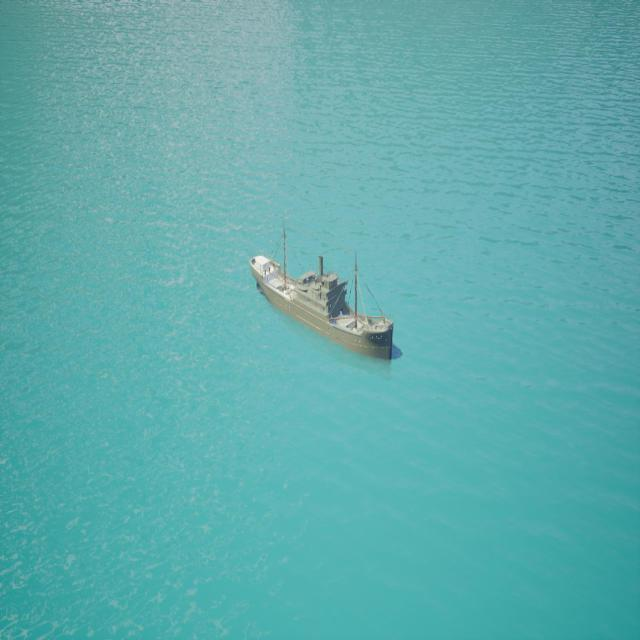fishing ship: (248, 256, 398, 365)
